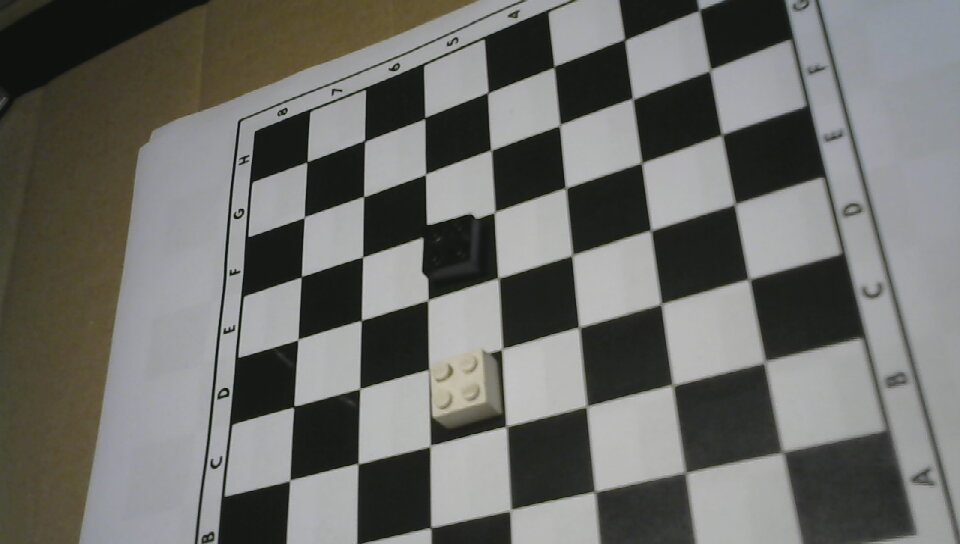bp: (419, 210, 490, 291)
